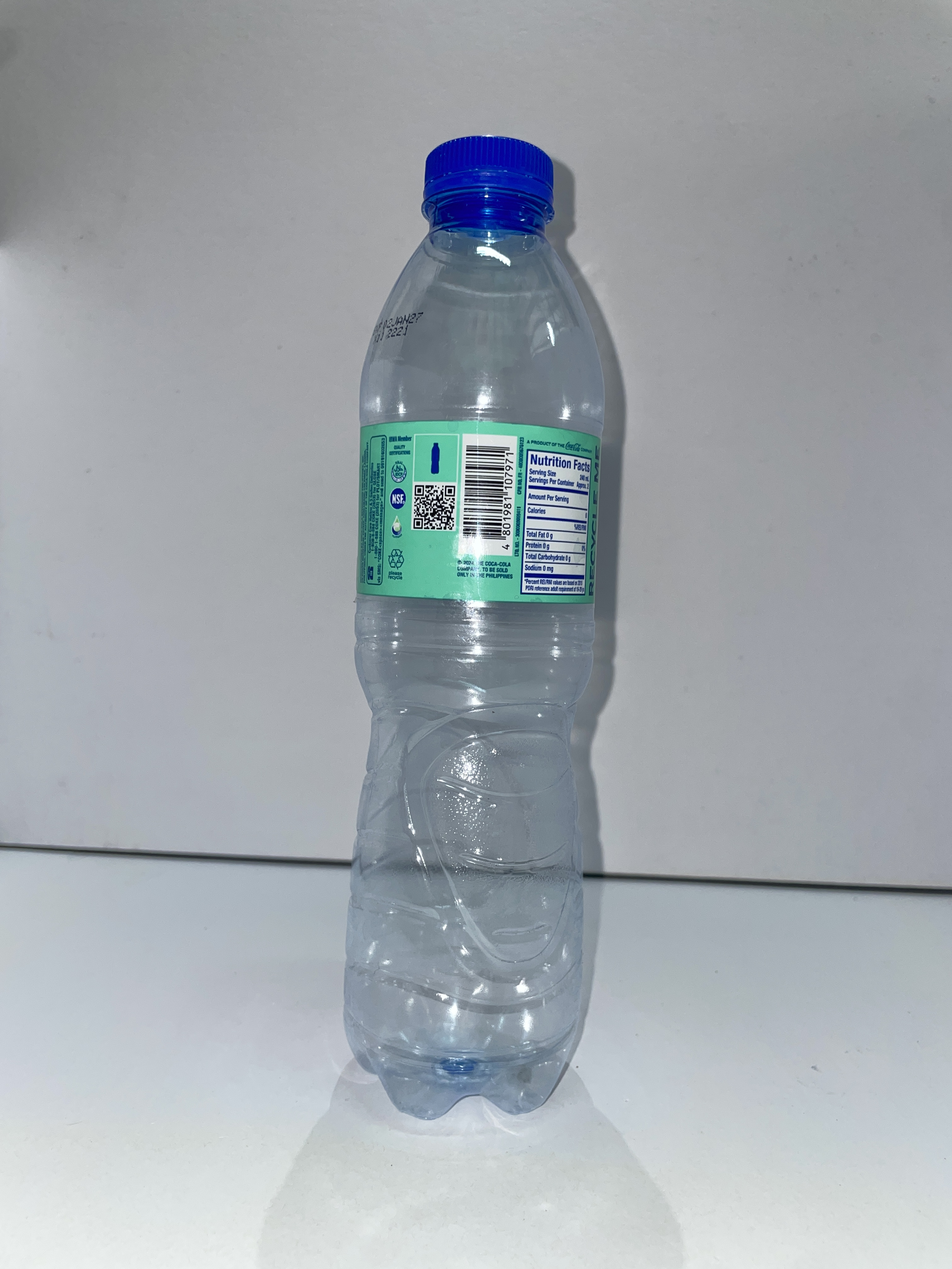wilkins pure 500ml: (344, 137, 604, 1118)
